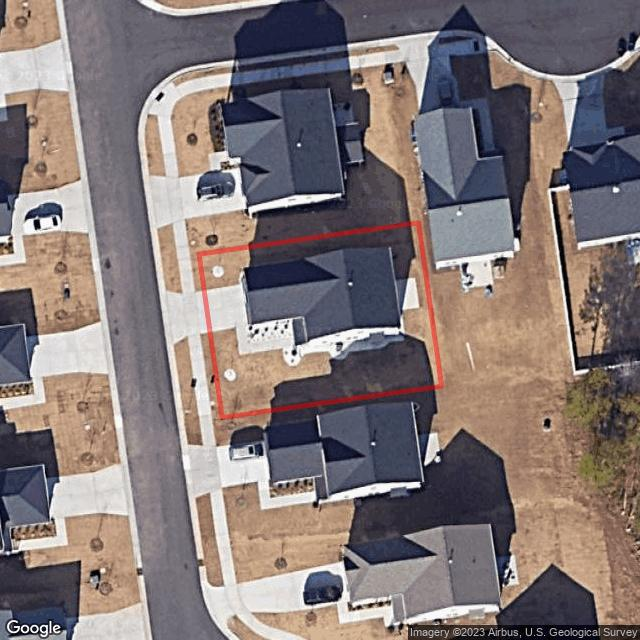Driveway: (208, 284, 308, 365)
Extra Driveway: (160, 291, 206, 347)
Extra Lawn: (174, 339, 198, 419), (158, 225, 181, 292)
Extra Sidewalk: (185, 333, 213, 418), (174, 220, 195, 292), (167, 346, 186, 425), (150, 229, 167, 293)
House: (242, 244, 404, 342)
